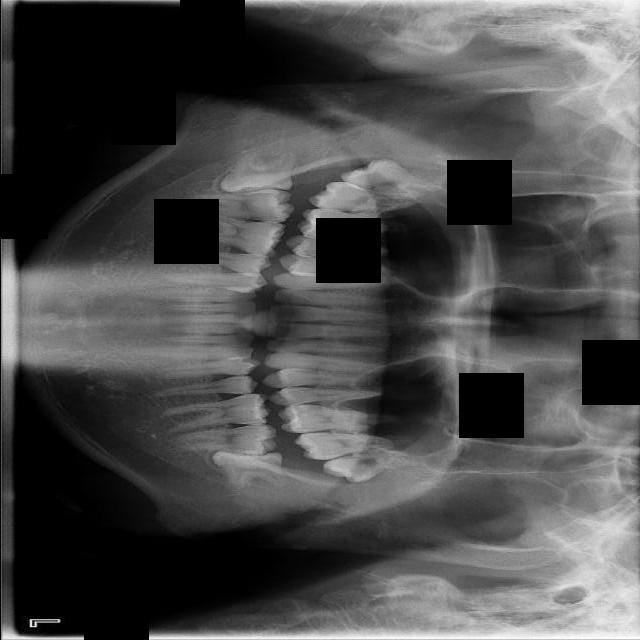3M ESPE Implant: (337, 153, 450, 205)
73: (32, 606, 54, 616)
BioHorizons Implant: (293, 432, 411, 460)
BioLife Implant: (319, 444, 434, 488)
Biomet 3i Implant: (209, 449, 291, 492)
Blue Sky Bio Implant: (172, 421, 278, 455)
Caries: (307, 181, 424, 212)
Implant: (186, 180, 296, 225)
Keystone Dental Implant: (221, 151, 297, 195)
